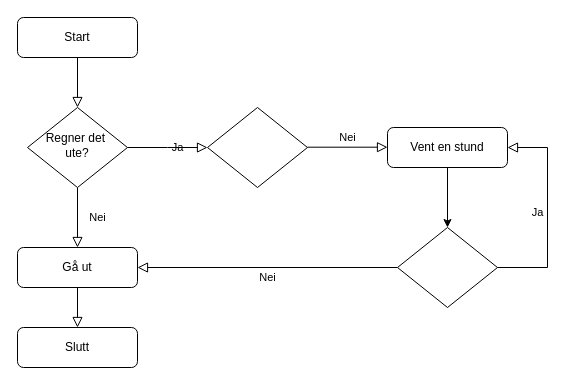
Image size: 575x385. Some labels were removed from this diagram. The centre of each missing label's shape, as x and y in pixels:
Har du paraply?: the point at 257,147
Regner det?: the point at 447,267
